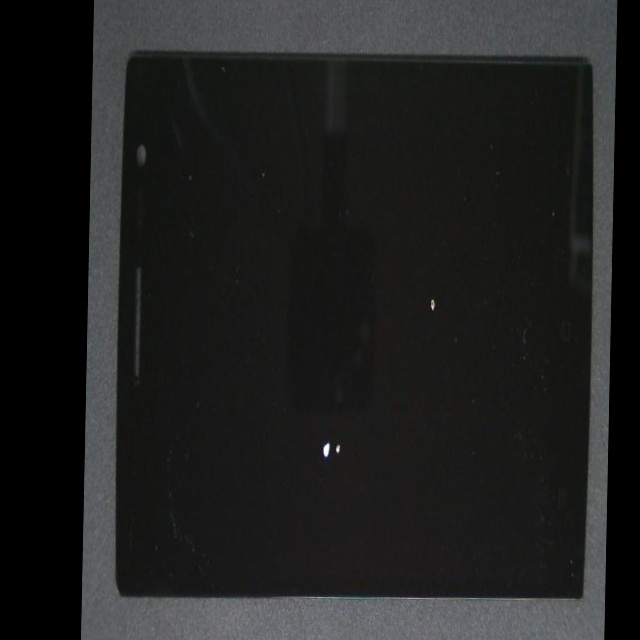stain: (253, 97, 600, 447), (208, 168, 445, 640)
